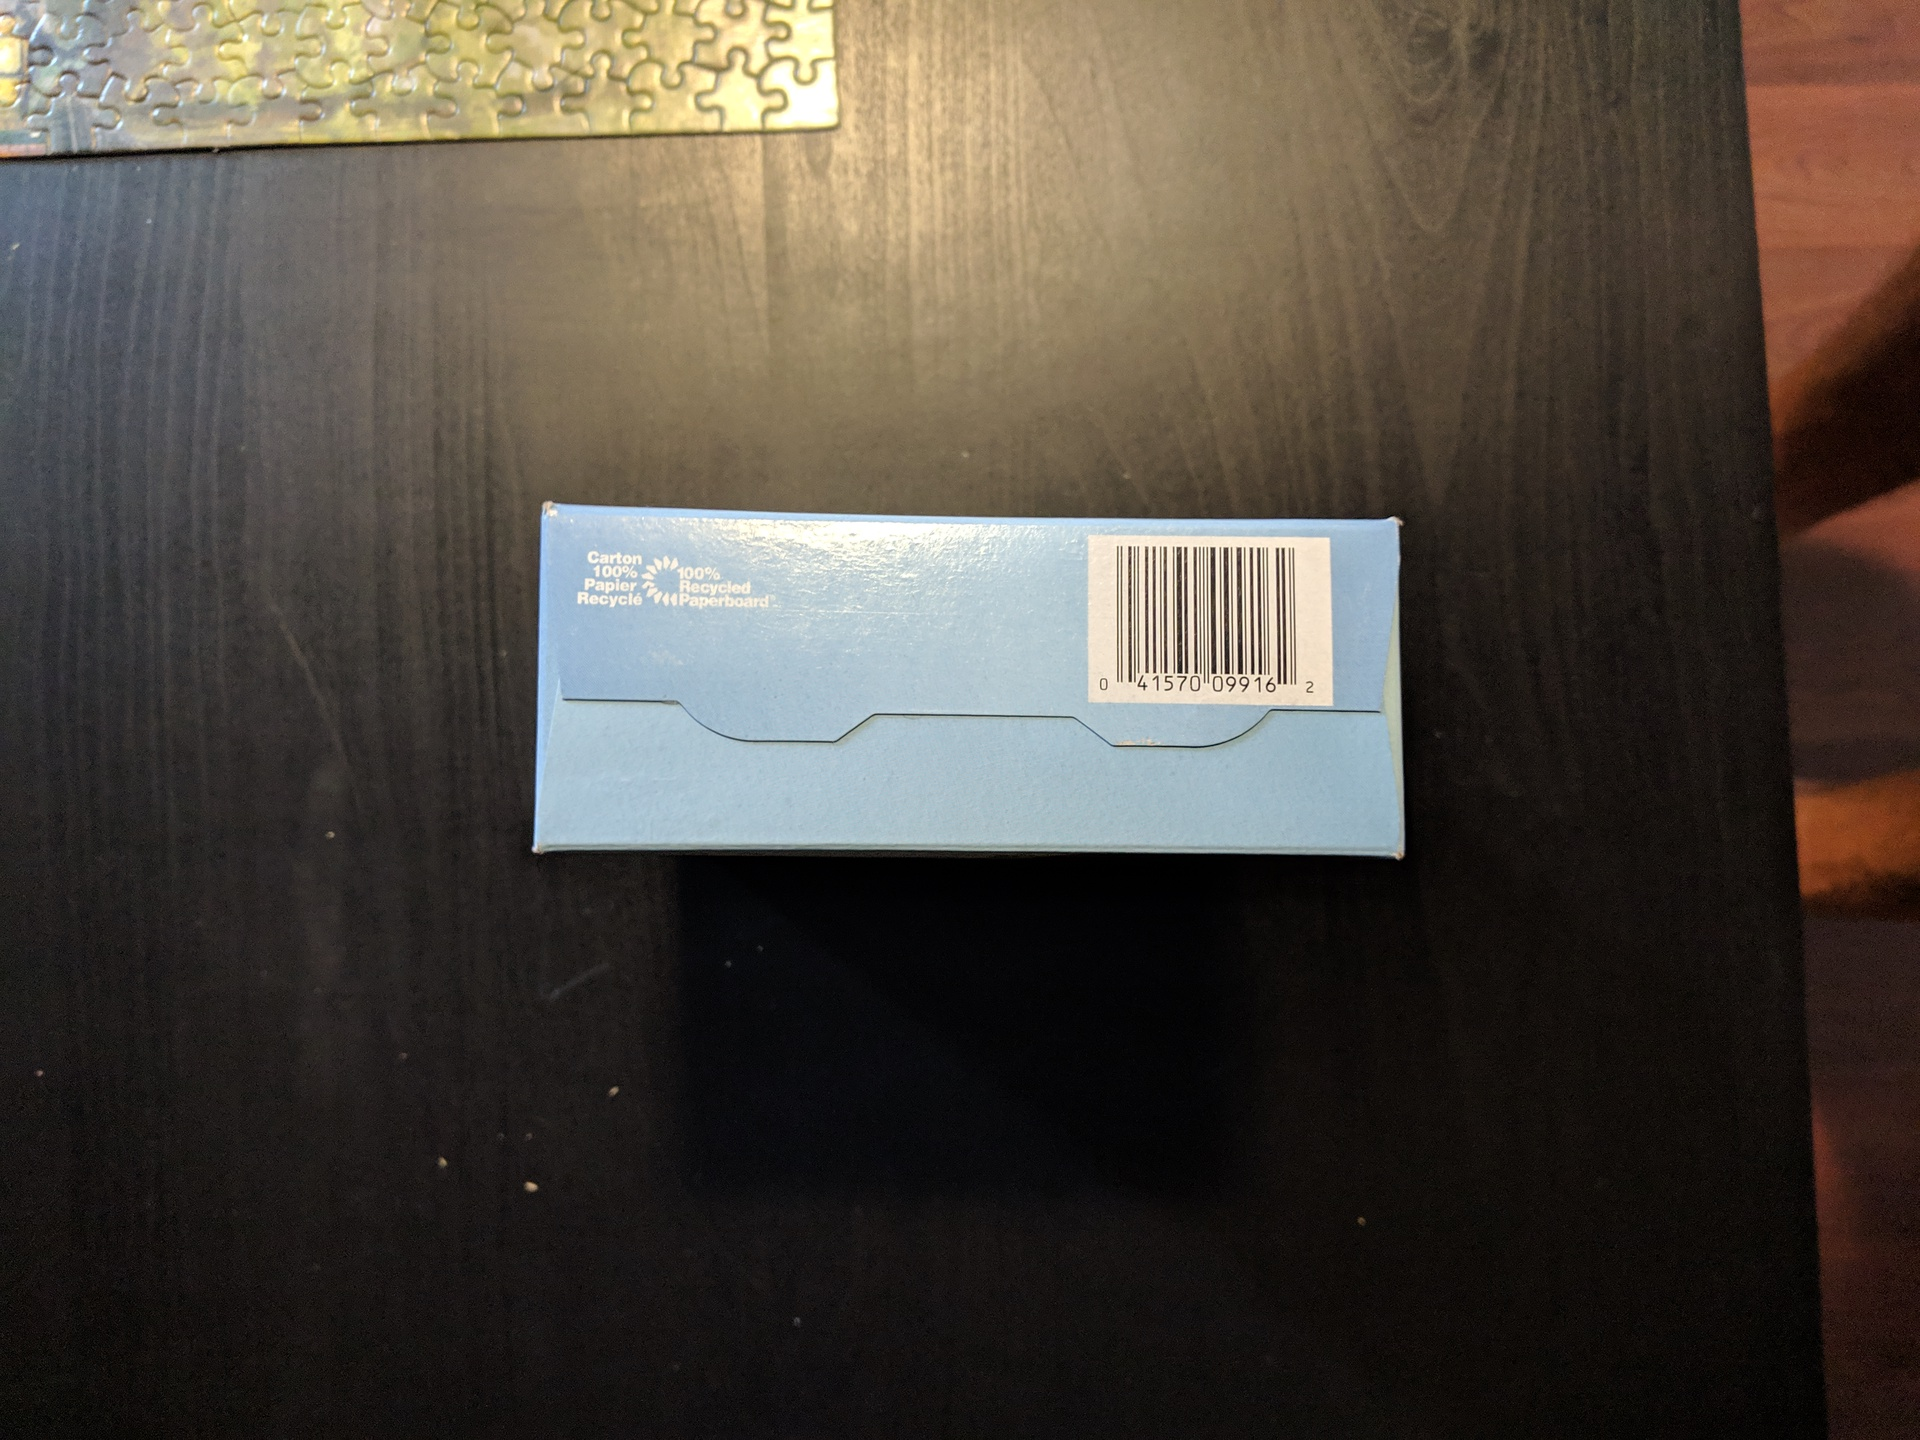blue_diamond_nut_thins_almond_seasalt: (526, 498, 1415, 871)
